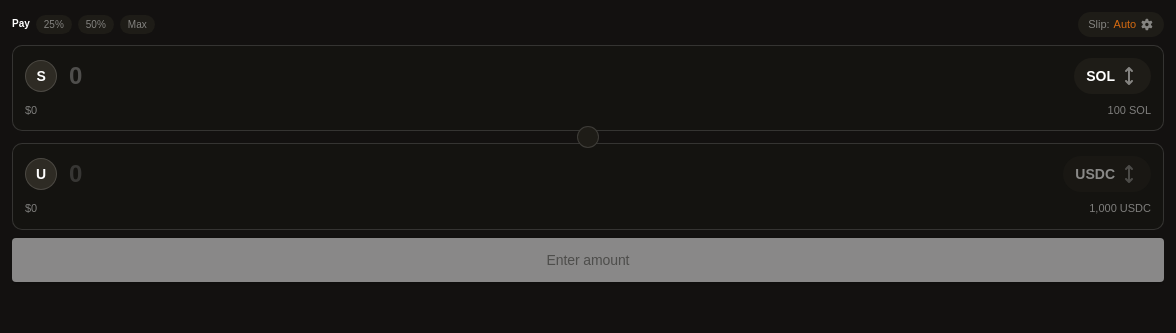
Test case: SwapWidget › Quote Fetching › should show quote info footer
In the field named "enter sol amount": (566, 76) [69,60,1062,92], type "10"
Wait 500 ms
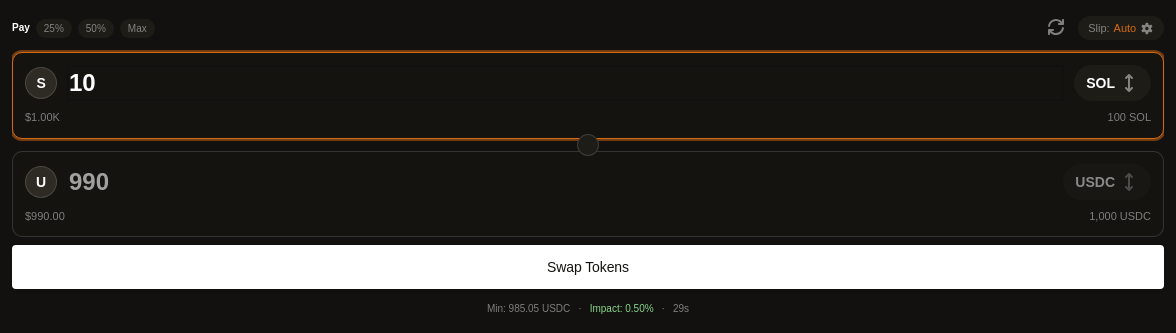
Expected: the text "Min: 985.05 USDC" is shown, [487,301,570,316]
Expected: the text "Impact: 0.50%" is shown, [590,301,654,316]
